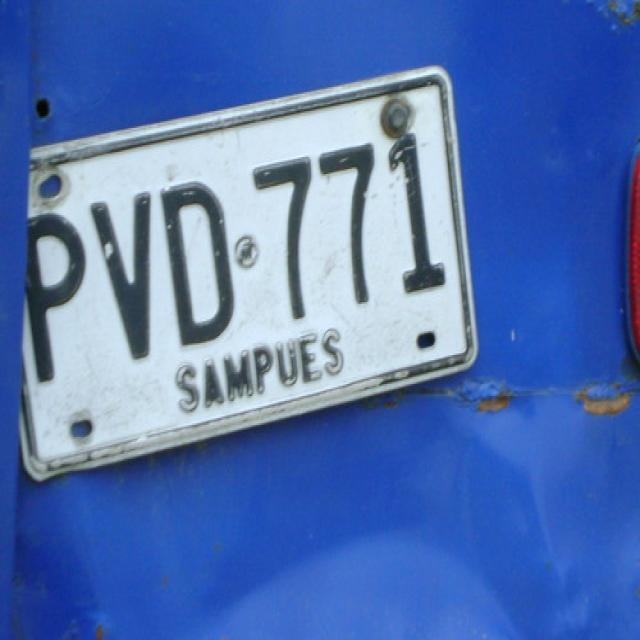placas: (20, 116, 454, 394)
